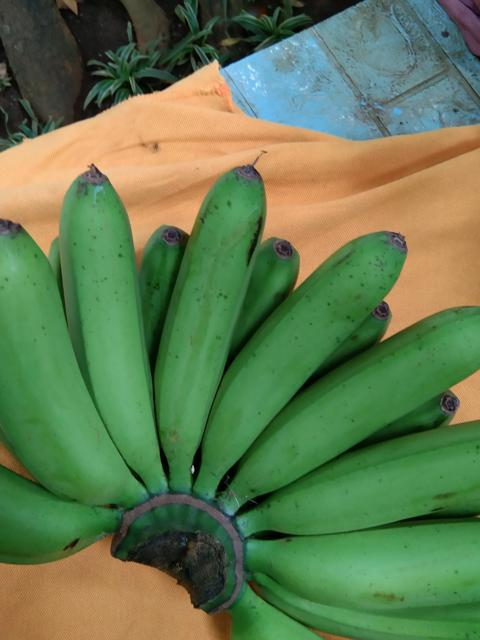freshunripe: (222, 292, 479, 500), (205, 221, 414, 475), (0, 212, 141, 512), (52, 161, 167, 493), (249, 413, 479, 537), (273, 514, 479, 609)
unripe: (149, 156, 269, 448)
